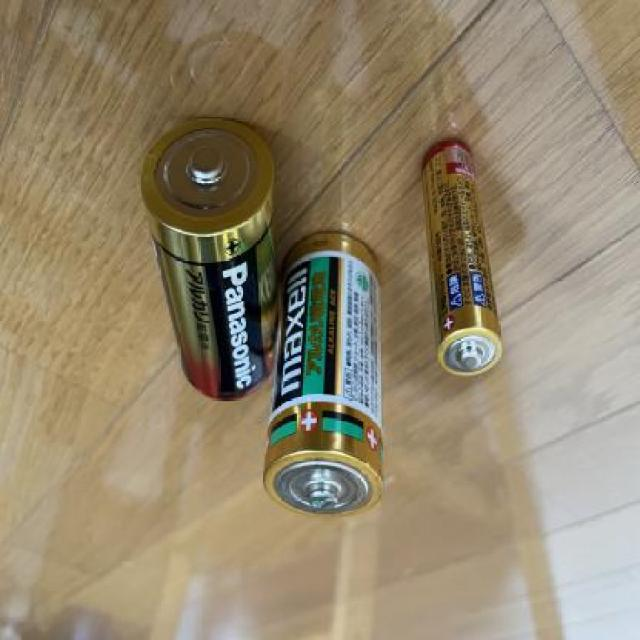hazardous waste: (137, 114, 280, 403), (260, 228, 386, 522), (420, 136, 502, 382)
